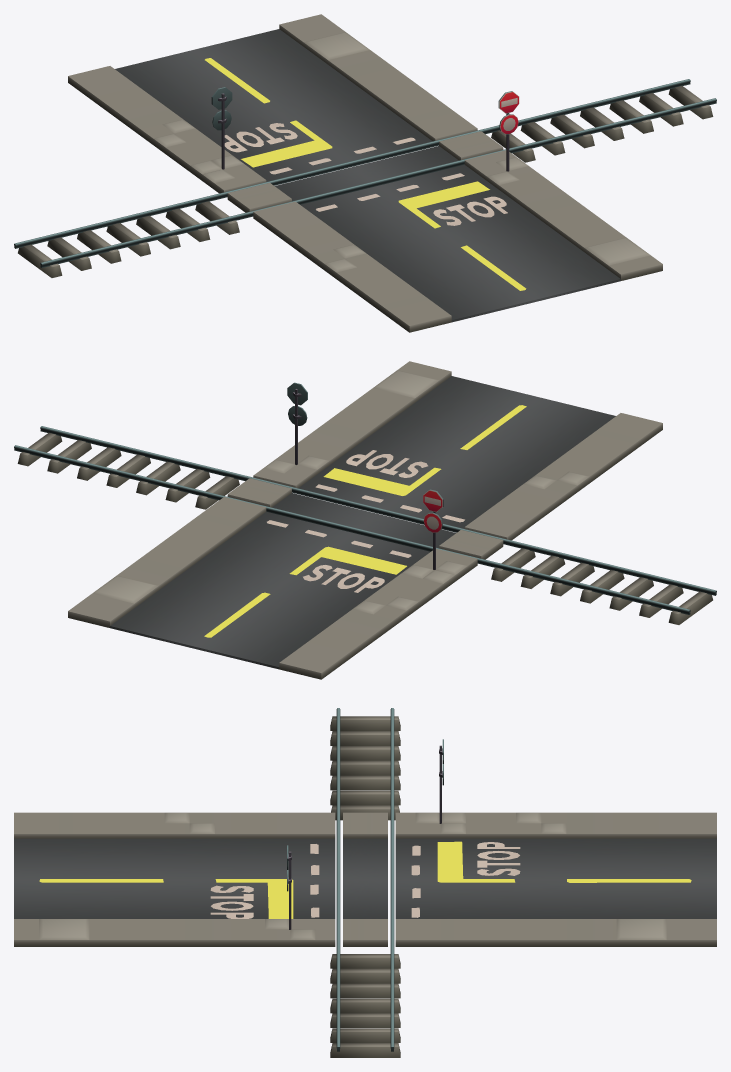
File: Railroad_Crossing_1A.fbx
The picture shows the model from 3 angles, top to bottom: view 1: azimuth 30°, elevation 25°; view 2: azimuth 150°, elevation 25°; view 3: azimuth 270°, elevation 25°; orthographic projection. The views are drawn at different scales.
Visible parts, largest first — view 1: Railroad_Crossing_1A; view 2: Railroad_Crossing_1A; view 3: Railroad_Crossing_1A.
Boxes of the visible parts, box(x1,y1,x2,y2) form: Railroad_Crossing_1A: box(14, 14, 716, 332); Railroad_Crossing_1A: box(14, 361, 716, 679); Railroad_Crossing_1A: box(14, 708, 716, 1057).
Size of the model in its own units: 31.94 by 4.3 by 28.
